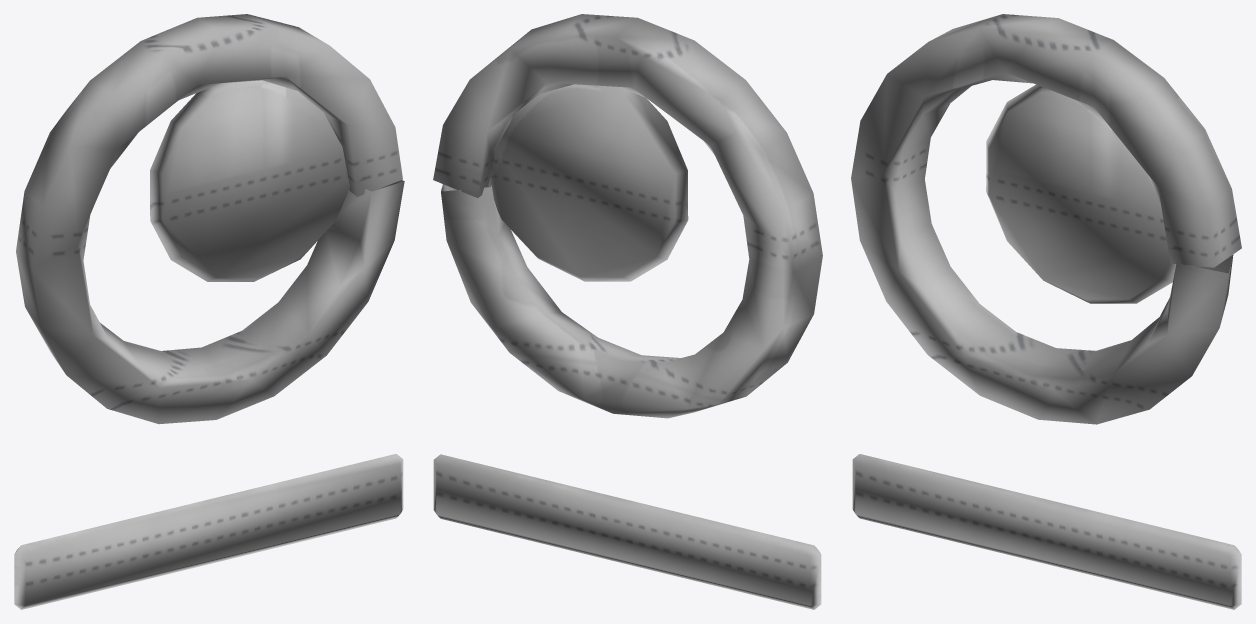
The model's file is UpperTorso_C2.fbx.
The picture shows the model from 3 angles, left to right: view 1: azimuth 30°, elevation 25°; view 2: azimuth 150°, elevation 25°; view 3: azimuth 330°, elevation 25°; orthographic projection.
Parts seen in each view (by area): view 1: Civ_RemeraEstampa_UpperTorso_C2; view 2: Civ_RemeraEstampa_UpperTorso_C2; view 3: Civ_RemeraEstampa_UpperTorso_C2.
Boxes of the visible parts, box(x1,y1,x2,y2) form: Civ_RemeraEstampa_UpperTorso_C2: box(14, 14, 404, 609); Civ_RemeraEstampa_UpperTorso_C2: box(433, 14, 822, 609); Civ_RemeraEstampa_UpperTorso_C2: box(851, 14, 1241, 609).
Size of the model in its own units: 0.7857 by 1.04 by 0.1217.
